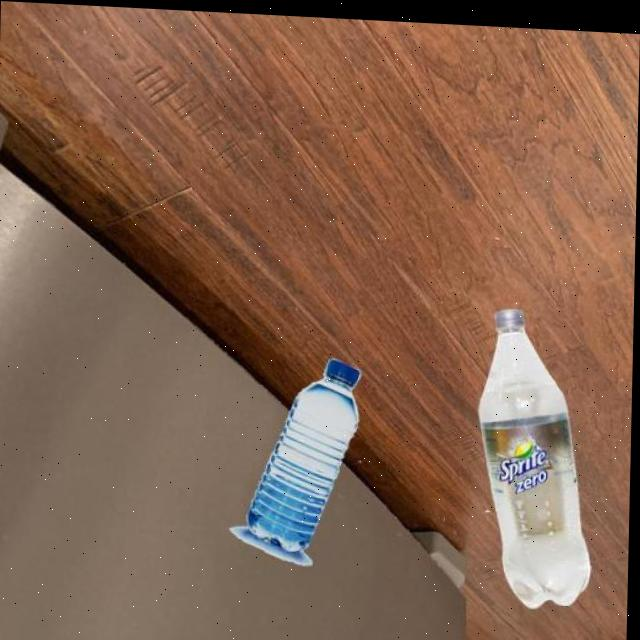bottle: (475, 301, 599, 606), (230, 350, 365, 566)
